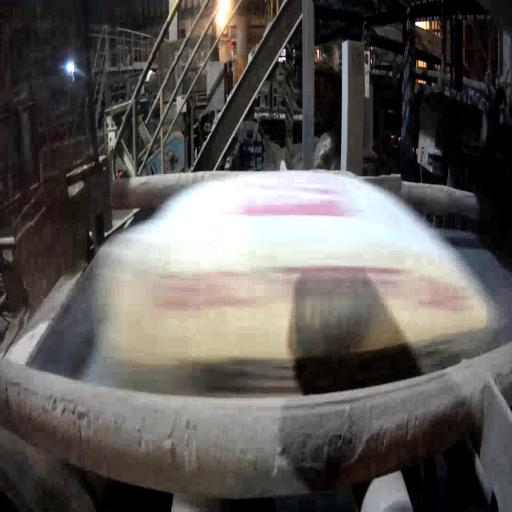c-belt-sack-count: (93, 172, 502, 393)
